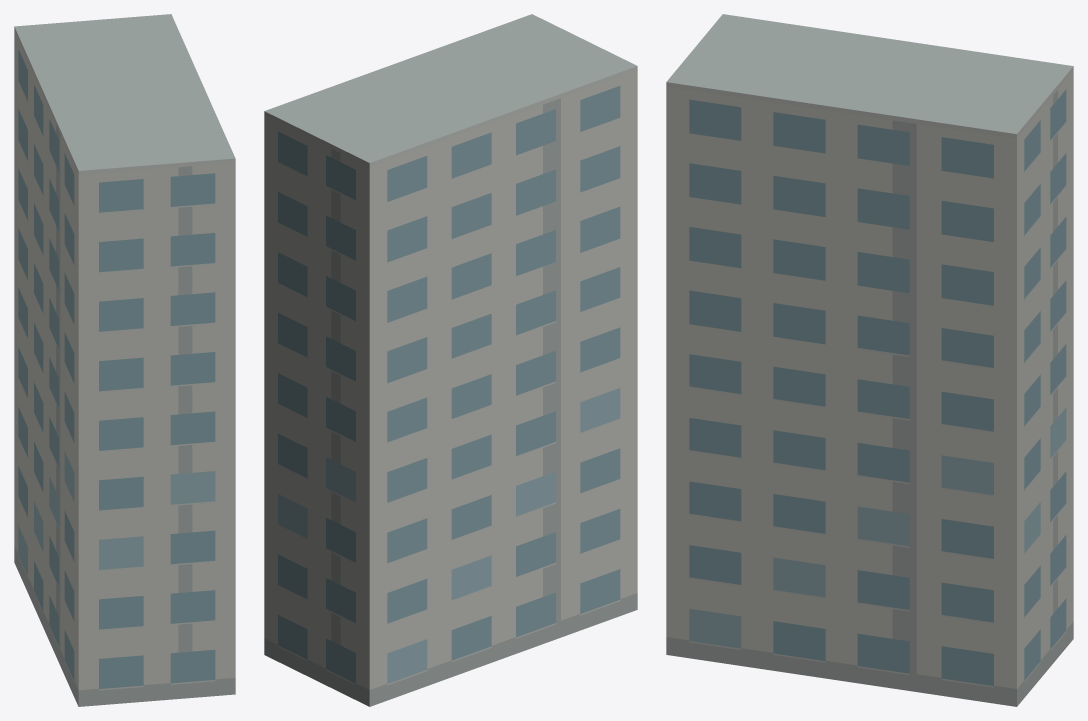
File: residential-27004287-0d0e-46bc-b07a-5cd427f5253b.glb
3 renders of one model, left to right at view 1: azimuth 30°, elevation 25°; view 2: azimuth 150°, elevation 25°; view 3: azimuth 270°, elevation 25°, orthographic. The views are drawn at different scales.
Parts seen in each view (by area): view 1: residential-27004287-0d0e-46bc-b07a-5cd427f5253b.tmp; view 2: residential-27004287-0d0e-46bc-b07a-5cd427f5253b.tmp; view 3: residential-27004287-0d0e-46bc-b07a-5cd427f5253b.tmp.
Part boxes in pixels (bbox=[...]): residential-27004287-0d0e-46bc-b07a-5cd427f5253b.tmp: bbox=[14, 14, 235, 706]; residential-27004287-0d0e-46bc-b07a-5cd427f5253b.tmp: bbox=[264, 14, 637, 706]; residential-27004287-0d0e-46bc-b07a-5cd427f5253b.tmp: bbox=[666, 14, 1073, 706].
Bounding box in the file's own units: 13.51 × 30 × 19.35.
